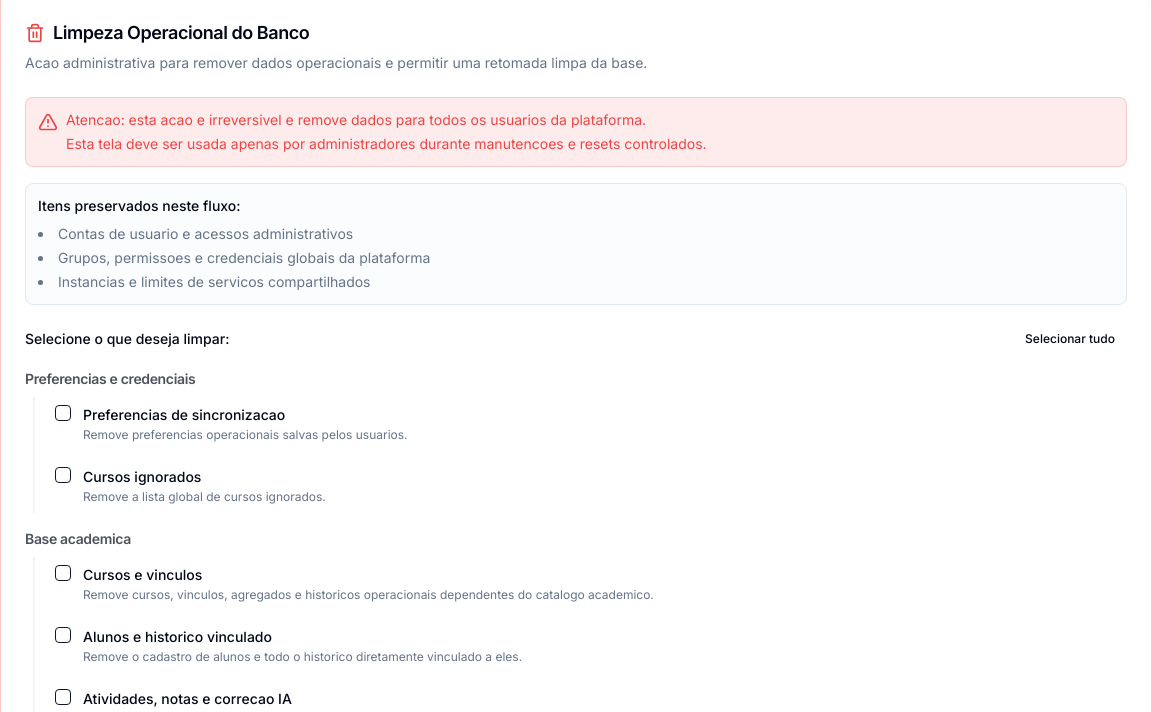
DataCleanupCard › selects and deselects all cleanup options
Click the button "Selecionar tudo" at [1070, 339], box [1013,321,1127,357]
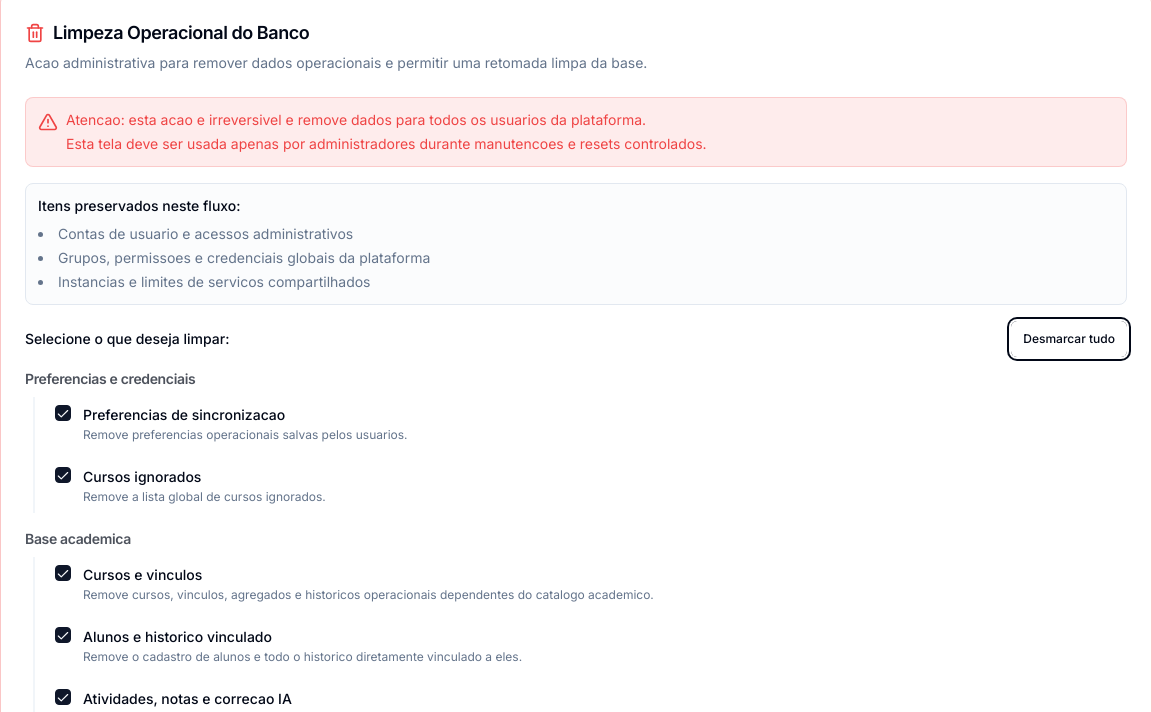
Click the button "Desmarcar tudo" at [1069, 339], box [1011,321,1127,357]
(page scrolled)
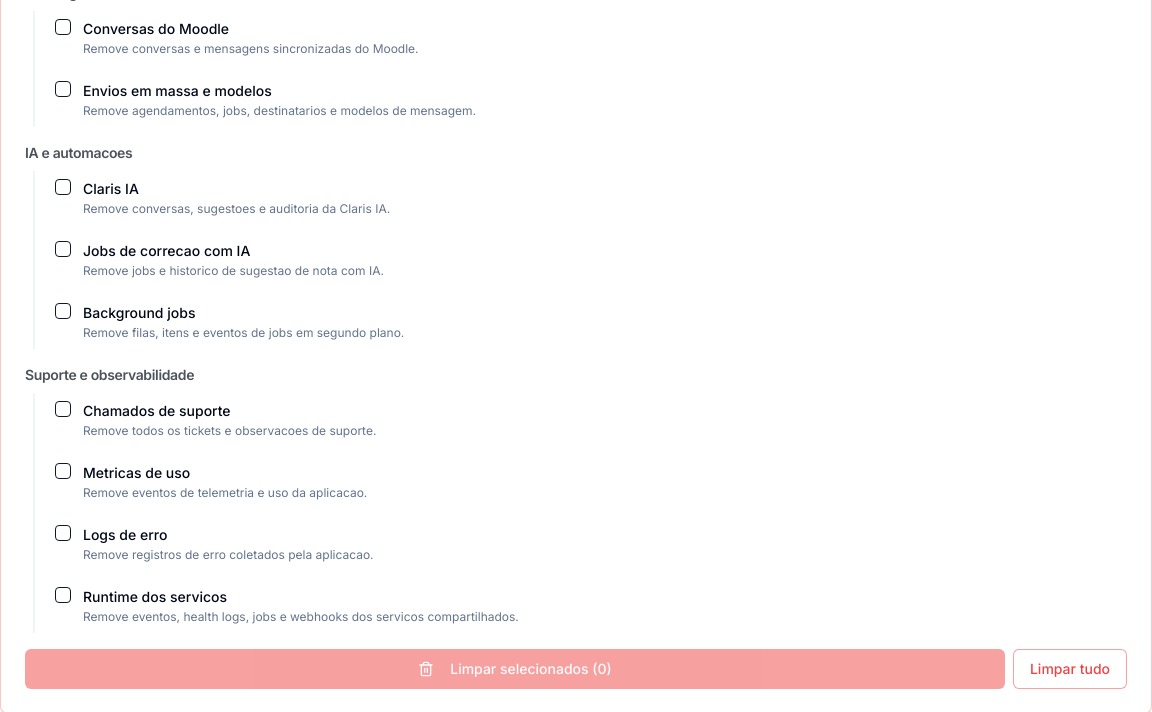
Expected: the button "Limpar selecionados (0)" is shown, [25,649,1005,689]
Expected: the button "Limpar selecionados (0)" is disabled, [25,649,1005,689]
